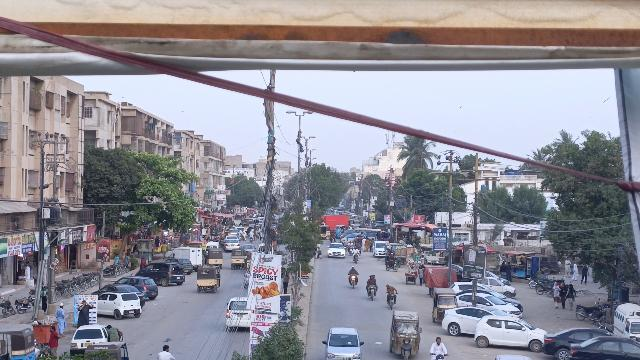Bike: (366, 284, 379, 302), (347, 273, 360, 289), (387, 291, 398, 309)
Car: (474, 314, 546, 349), (539, 323, 599, 360), (441, 306, 510, 336), (566, 335, 639, 360), (321, 328, 366, 360), (137, 261, 185, 287), (99, 292, 143, 320), (70, 323, 107, 355), (122, 274, 159, 300), (225, 296, 250, 330)
Cart: (404, 259, 418, 285)
Person: (76, 298, 93, 326), (47, 324, 60, 356), (430, 334, 448, 354), (56, 302, 66, 338), (566, 282, 577, 311), (551, 280, 561, 309), (106, 324, 121, 342), (559, 281, 567, 309), (383, 282, 399, 294), (366, 273, 376, 286), (348, 265, 359, 276)
Rickshaw: (388, 309, 422, 358), (431, 285, 458, 327), (84, 342, 131, 360), (195, 264, 221, 295), (204, 247, 224, 270), (230, 247, 246, 269)
Suzuki: (611, 301, 640, 338)
